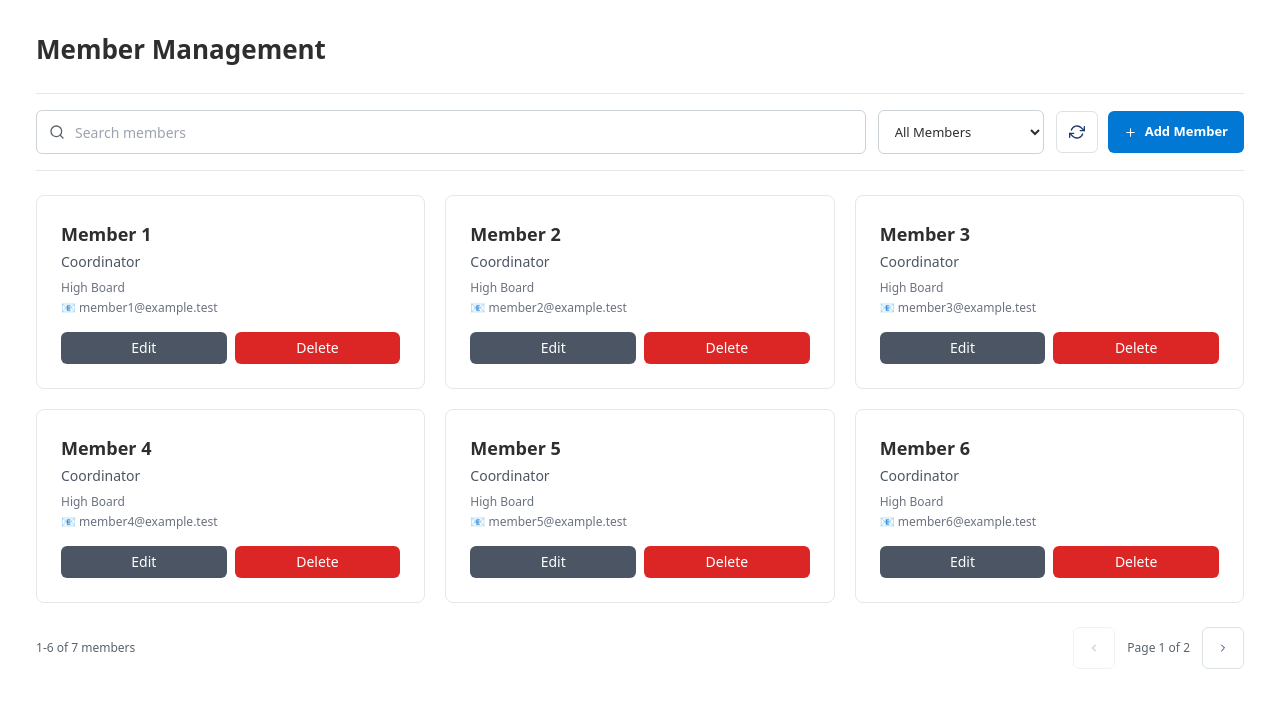
Test: keeps previously loaded members browsable when refresh fails
Expected: the heading "Member 1" is shown, [61,222,152,246]
Click the button named "Next page". click: {"x": 1223, "y": 648}
box: [1202,627,1244,669]
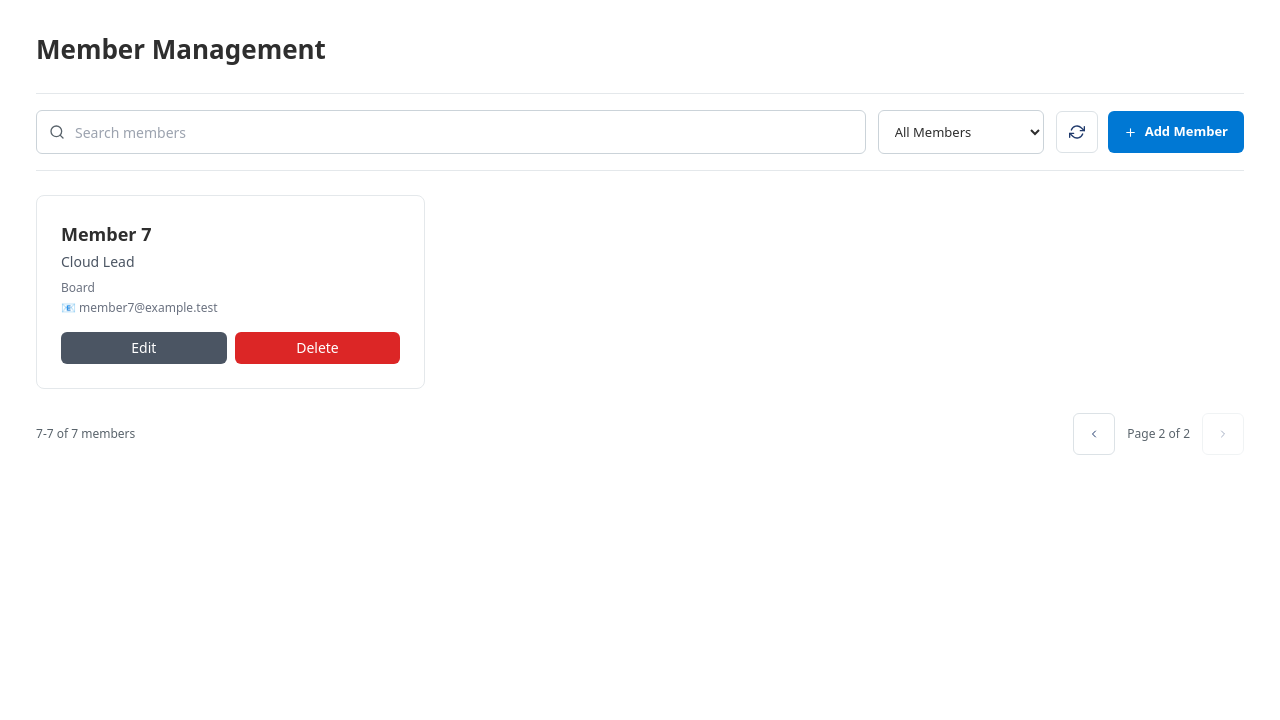
Click the button named "Refresh members". click: {"x": 1077, "y": 132}
box: [1056,111,1098,153]
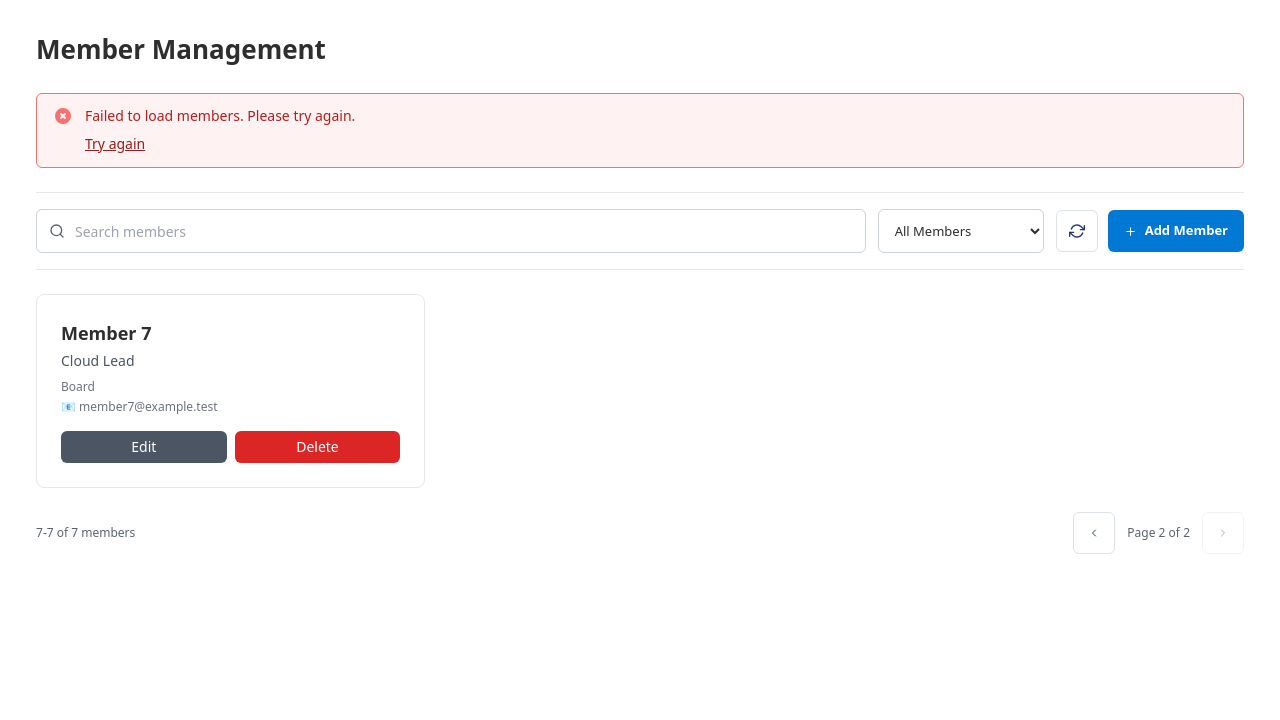
Expected: the heading "Member 7" is shown, [61,321,152,345]
Expected: the text "Failed to load members. Please try again." is shown, [85,106,355,125]
Click the button named "Previous page". click: {"x": 1094, "y": 533}
box: [1073,512,1115,554]
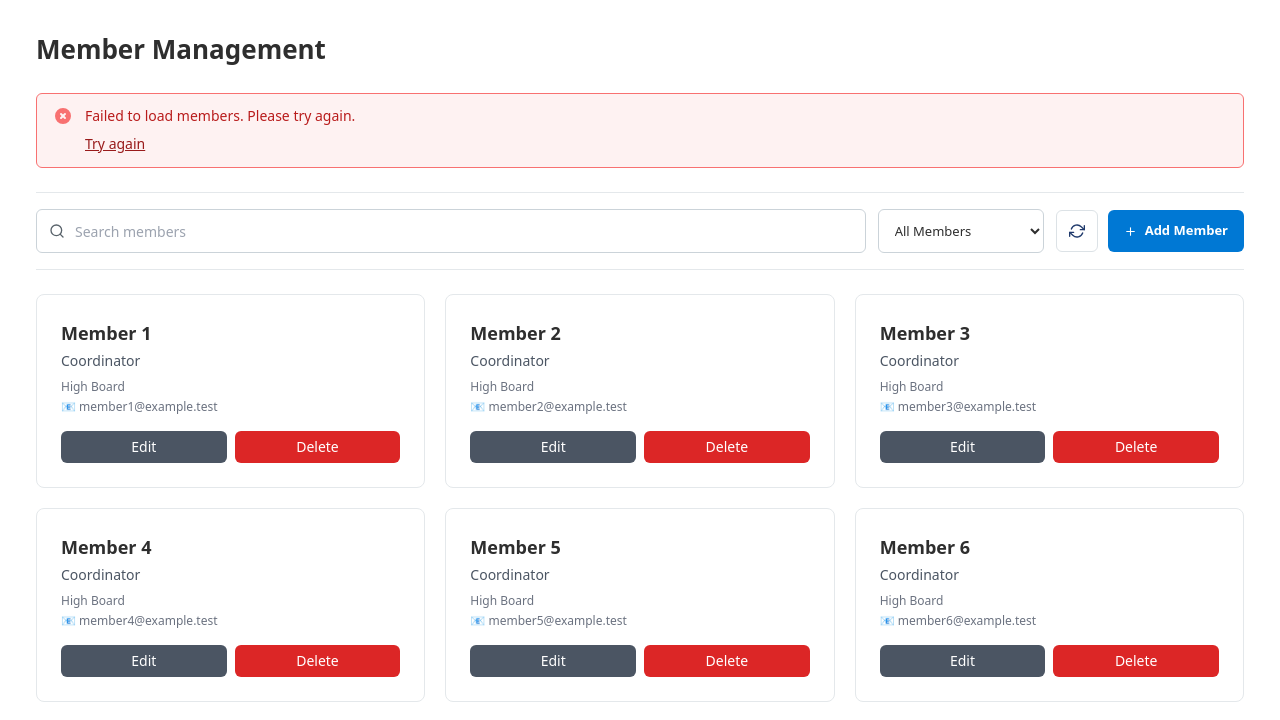
Expected: the heading "Member 1" is shown, [61,321,152,345]
